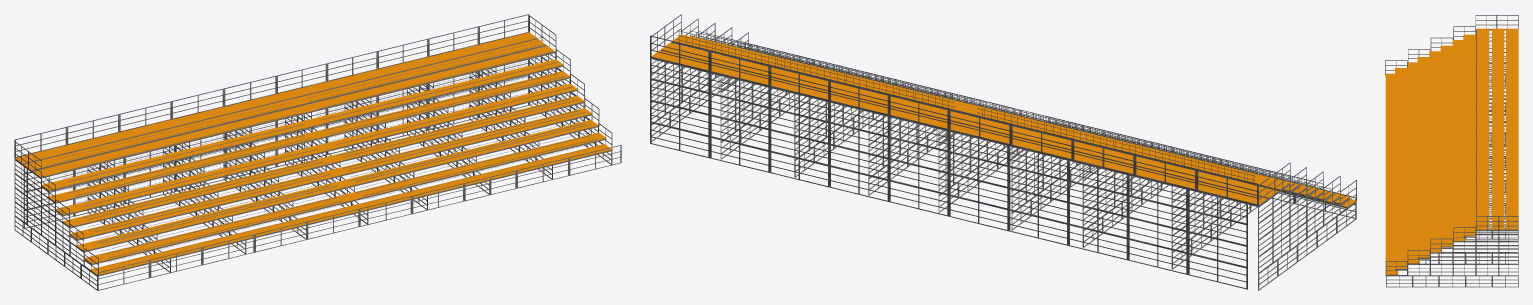
File: Tribune_2.fbx
3 views of the same model, side by side, from view 1: azimuth 30°, elevation 25°; view 2: azimuth 150°, elevation 25°; view 3: azimuth 270°, elevation 25° (orthographic). The views are drawn at different scales.
Visible parts, largest first — view 1: Tribune_2; view 2: Tribune_2; view 3: Tribune_2.
Part boxes in pixels (box(x1,y1,x2,y2)): Tribune_2: box(14, 14, 621, 290); Tribune_2: box(650, 14, 1356, 290); Tribune_2: box(1385, 15, 1518, 287).
Size of the model in its own units: 1127 by 188 by 312.
